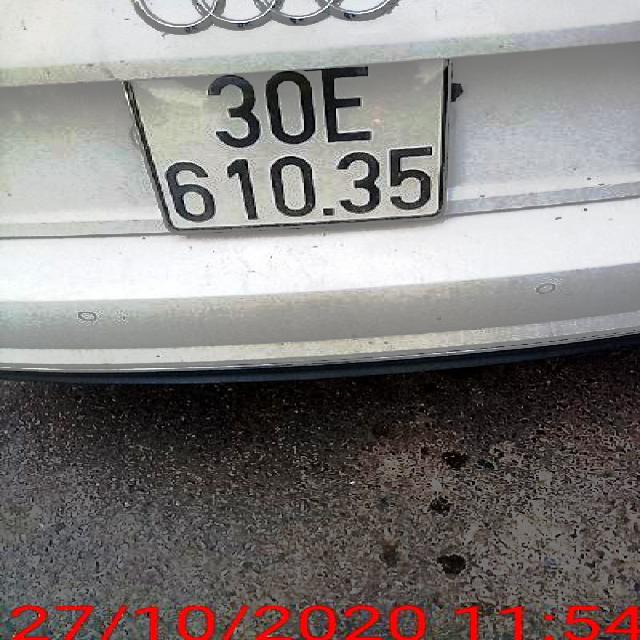license_plate: (132, 60, 450, 232)
